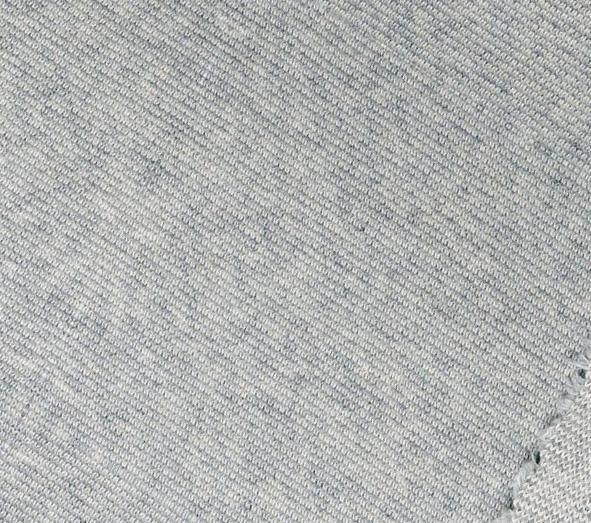slub: (479, 367, 591, 522)
